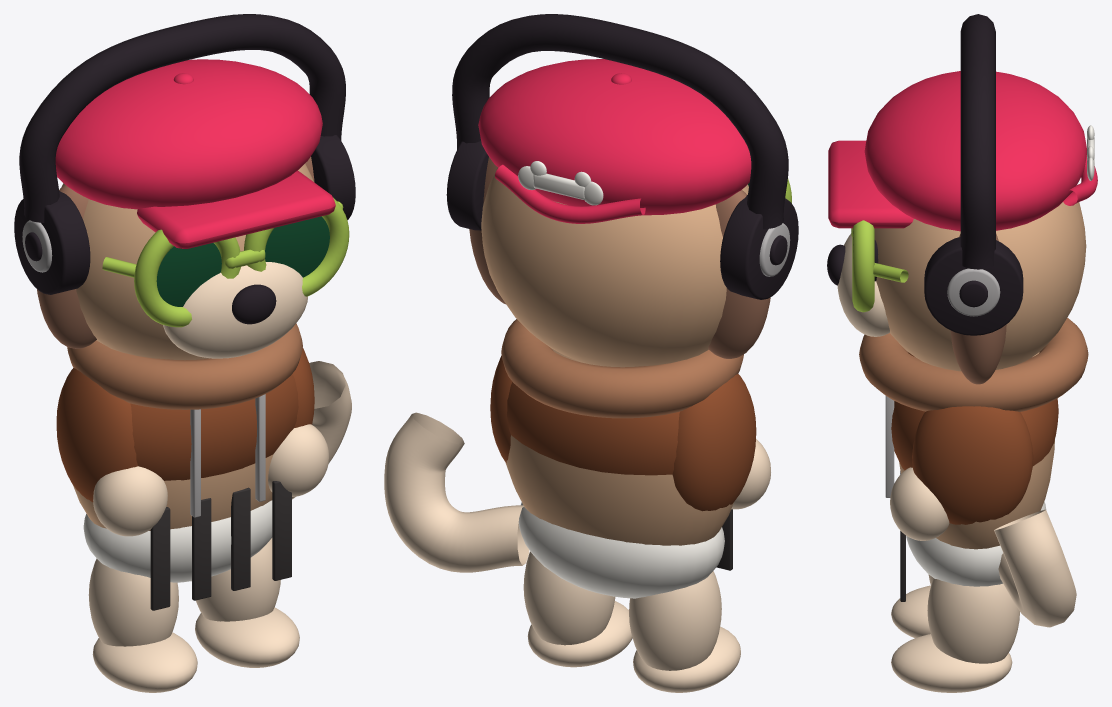
Rendered from dog_outfit.glb.
3 renders of one model, left to right at view 1: azimuth 30°, elevation 25°; view 2: azimuth 150°, elevation 25°; view 3: azimuth 270°, elevation 25°, orthographic. The views are drawn at different scales.
Parts seen in each view (by area): view 1: cap crown, headphone arch, fur collar, jacket torso, head, muzzle, cap brim, jacket sleeve, trouser body, leg, ear cup, foot.001 (+21 smaller); view 2: head, cap crown, headphone arch, tail, body, fur collar, trouser body, jacket torso, jacket sleeve, leg, leg.001, ear cup (+10 smaller); view 3: cap crown, head, jacket sleeve.001, fur collar, headphone arch, tail, leg.001, ear cup.001, cap brim, foot.001, trouser body, jacket torso (+12 smaller).
Part boxes in pixels (left/top/right/bottom): cap crown: left=55, top=59, right=322, bottom=209; headphone arch: left=19, top=14, right=345, bottom=222; fur collar: left=67, top=323, right=302, bottom=409; jacket torso: left=130, top=374, right=298, bottom=480; head: left=61, top=163, right=313, bottom=360; muzzle: left=163, top=262, right=307, bottom=358; cap brim: left=137, top=170, right=335, bottom=248; jacket sleeve: left=56, top=368, right=137, bottom=502; trouser body: left=83, top=500, right=272, bottom=582; leg: left=88, top=558, right=178, bottom=646; ear cup: left=14, top=191, right=90, bottom=294; foot.001: left=195, top=607, right=299, bottom=667; head: left=481, top=167, right=748, bottom=367; cap crown: left=478, top=59, right=751, bottom=215; headphone arch: left=452, top=14, right=788, bottom=229; tail: left=384, top=412, right=529, bottom=572; body: left=505, top=348, right=733, bottom=545; fur collar: left=501, top=319, right=743, bottom=418; trouser body: left=518, top=502, right=724, bottom=598; jacket torso: left=507, top=382, right=679, bottom=475; jacket sleeve: left=672, top=374, right=756, bottom=511; leg: left=629, top=571, right=721, bottom=670; leg.001: left=523, top=551, right=615, bottom=645; ear cup: left=720, top=195, right=798, bottom=299; cap crown: left=864, top=71, right=1086, bottom=231; head: left=874, top=202, right=1086, bottom=371; jacket sleeve.001: left=912, top=406, right=1033, bottom=524; fur collar: left=859, top=318, right=1088, bottom=411; headphone arch: left=960, top=14, right=995, bottom=269; tail: left=994, top=509, right=1076, bottom=627; leg.001: left=927, top=578, right=1019, bottom=663; ear cup.001: left=924, top=237, right=1023, bottom=335; cap brim: left=828, top=140, right=913, bottom=228; foot.001: left=891, top=634, right=1012, bottom=692; trouser body: left=906, top=501, right=1046, bottom=586; jacket torso: left=891, top=352, right=1058, bottom=470.
Bounding box in the file's own units: 3.62 × 6.16 × 2.45.
